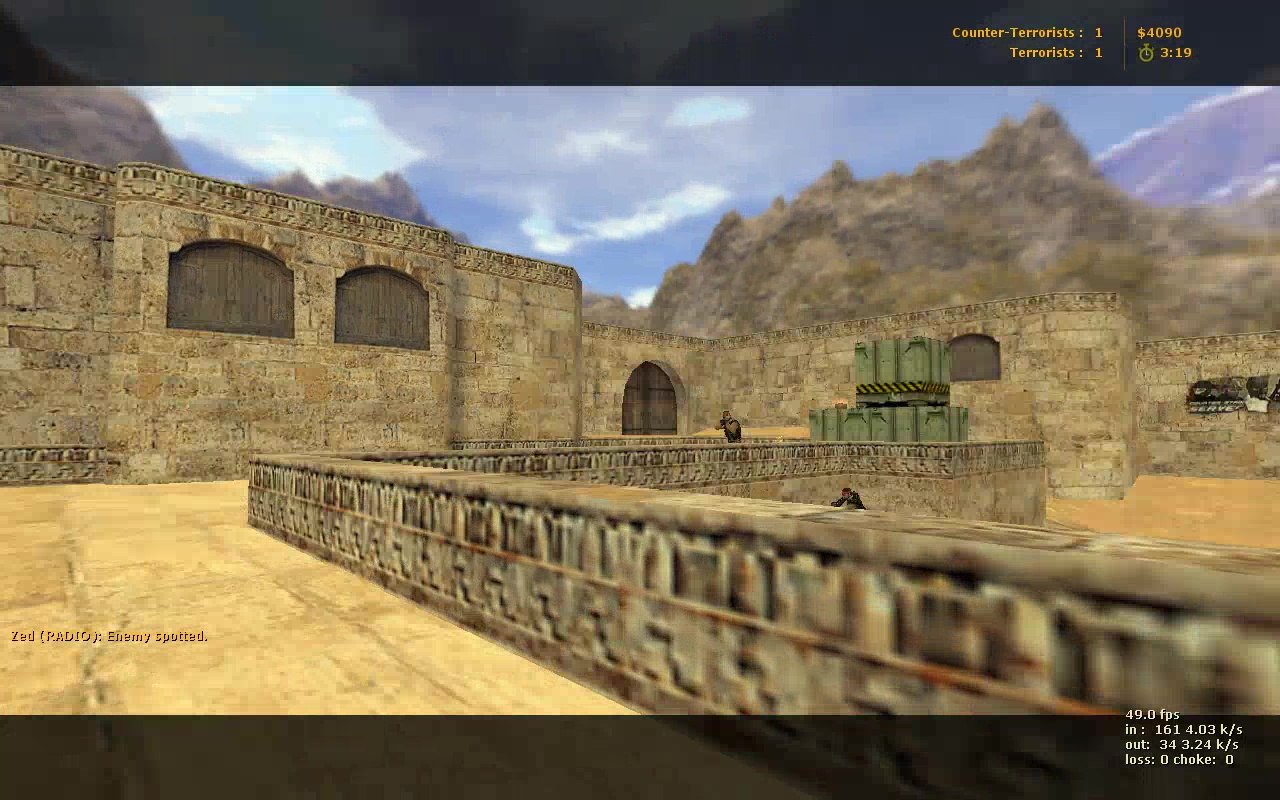terr1: (715, 410, 744, 443), (834, 486, 867, 511)
